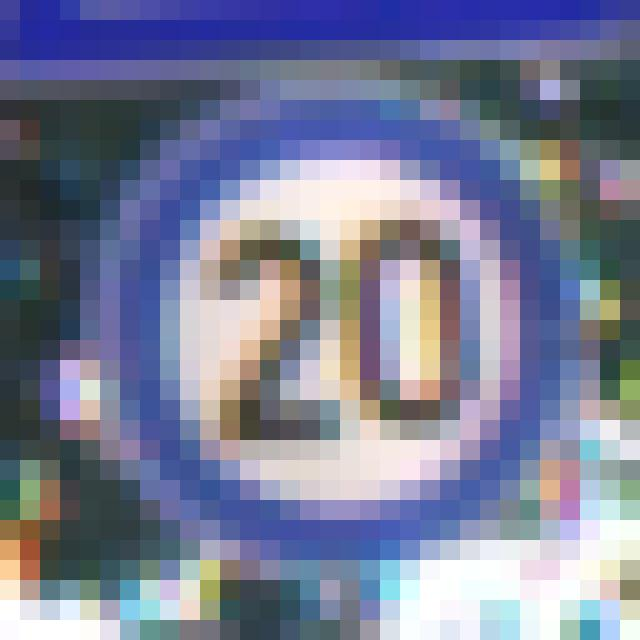SPEED LIMIT 20: (84, 99, 578, 554)
